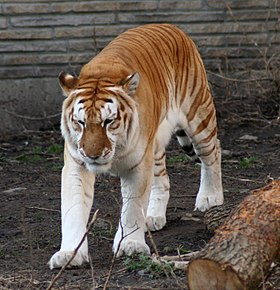Tigrew: (36, 18, 236, 256)
